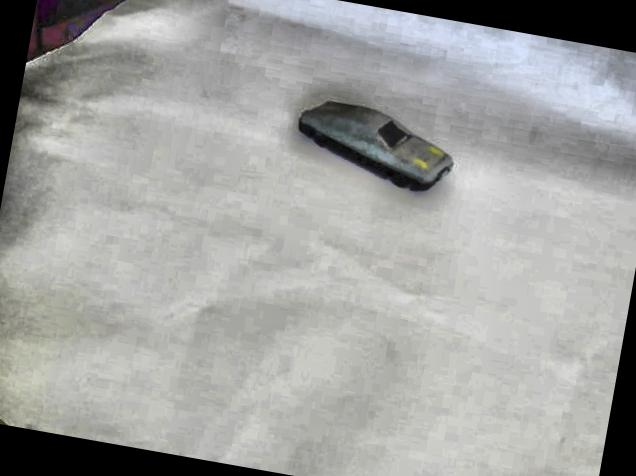normal_car: (282, 86, 460, 200)
